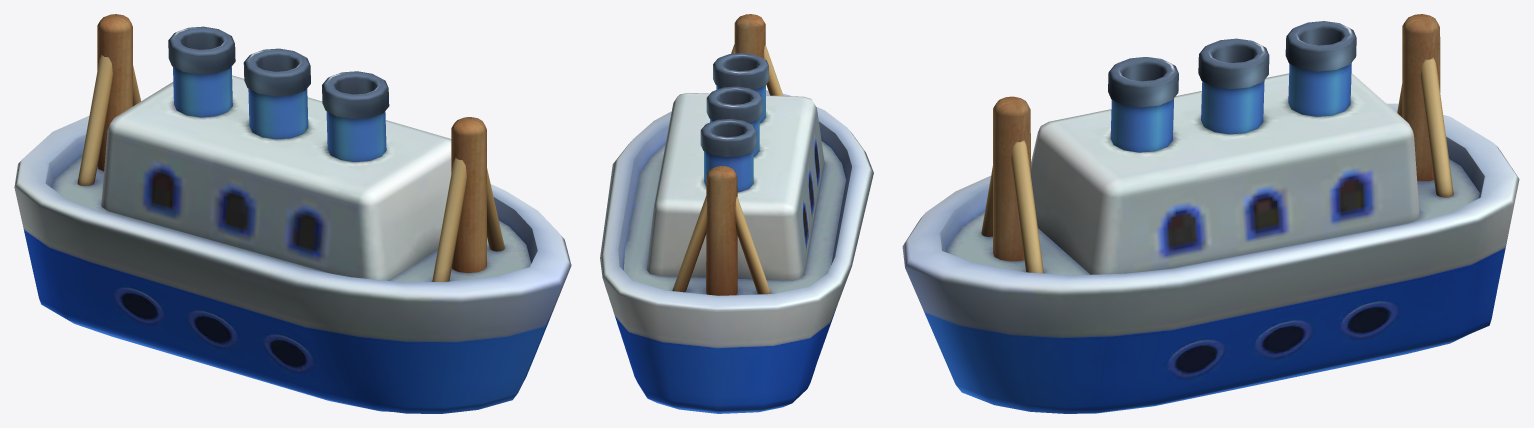
Rendered from 0-ship_blue.fbx.
3 renders of one model, left to right at view 1: azimuth 30°, elevation 25°; view 2: azimuth 150°, elevation 25°; view 3: azimuth 270°, elevation 25°, orthographic. The views are drawn at different scales.
Visible parts, largest first — view 1: 0-ship_blue; view 2: 0-ship_blue; view 3: 0-ship_blue.
Part boxes in pixels (<box>): 0-ship_blue: <box>14,14,571,413</box>; 0-ship_blue: <box>600,14,873,413</box>; 0-ship_blue: <box>902,14,1519,413</box>.
Bounding box in the file's own units: 65.88 × 47.1 × 90.9.
